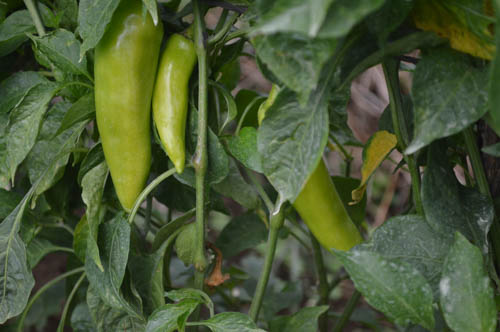ChiliPepper: (257, 104, 362, 249), (94, 6, 157, 216), (152, 34, 197, 176)
